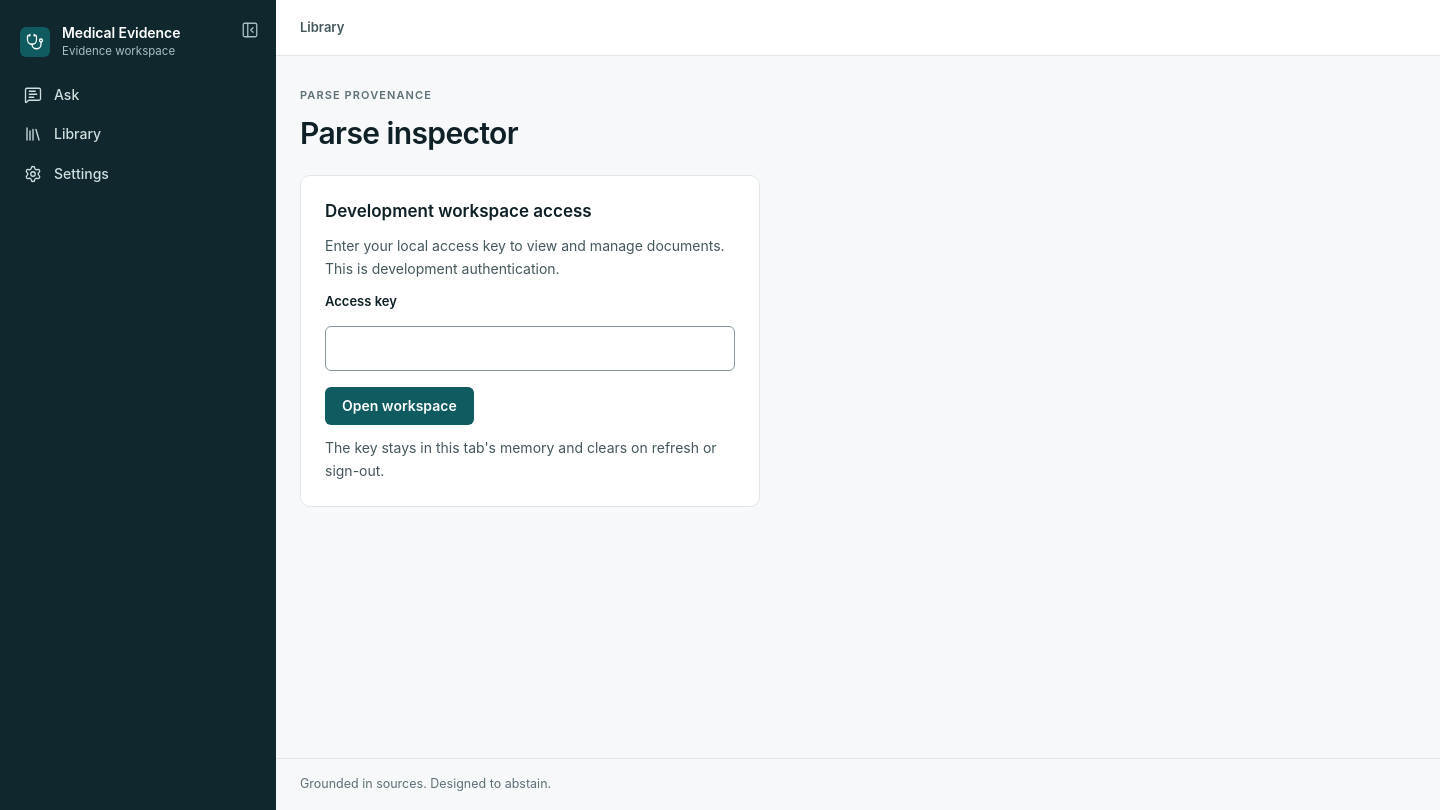
Scenario: M2 parse inspector › lists structured elements with reading order and coordinates
The image size is (1440, 810).
In the password field labelled "Access key": coordinates (530, 349) [325,326,735,371], type "local-test-key"
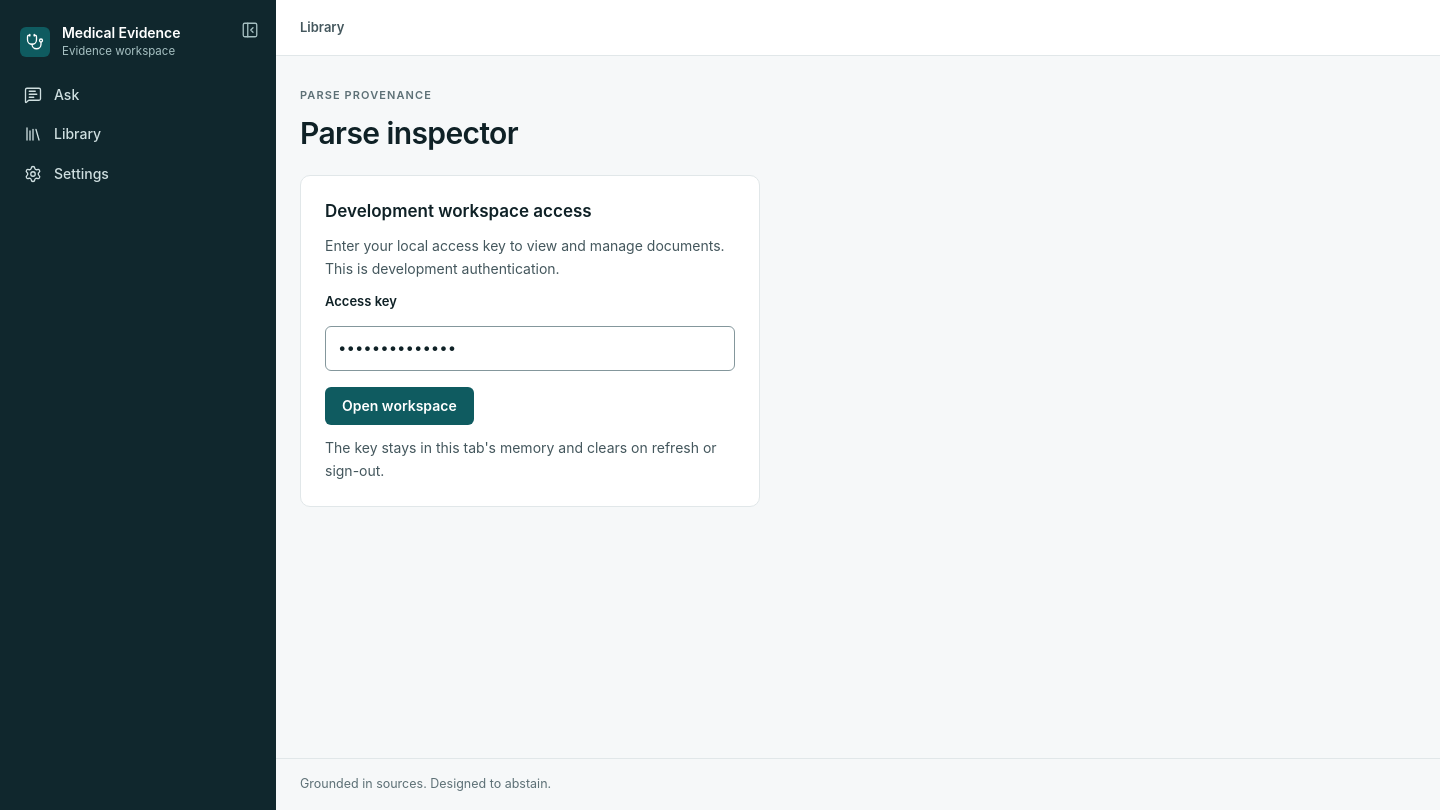
Click the button "Open workspace": coordinates (399, 406) [325,387,474,425]
(page scrolled)
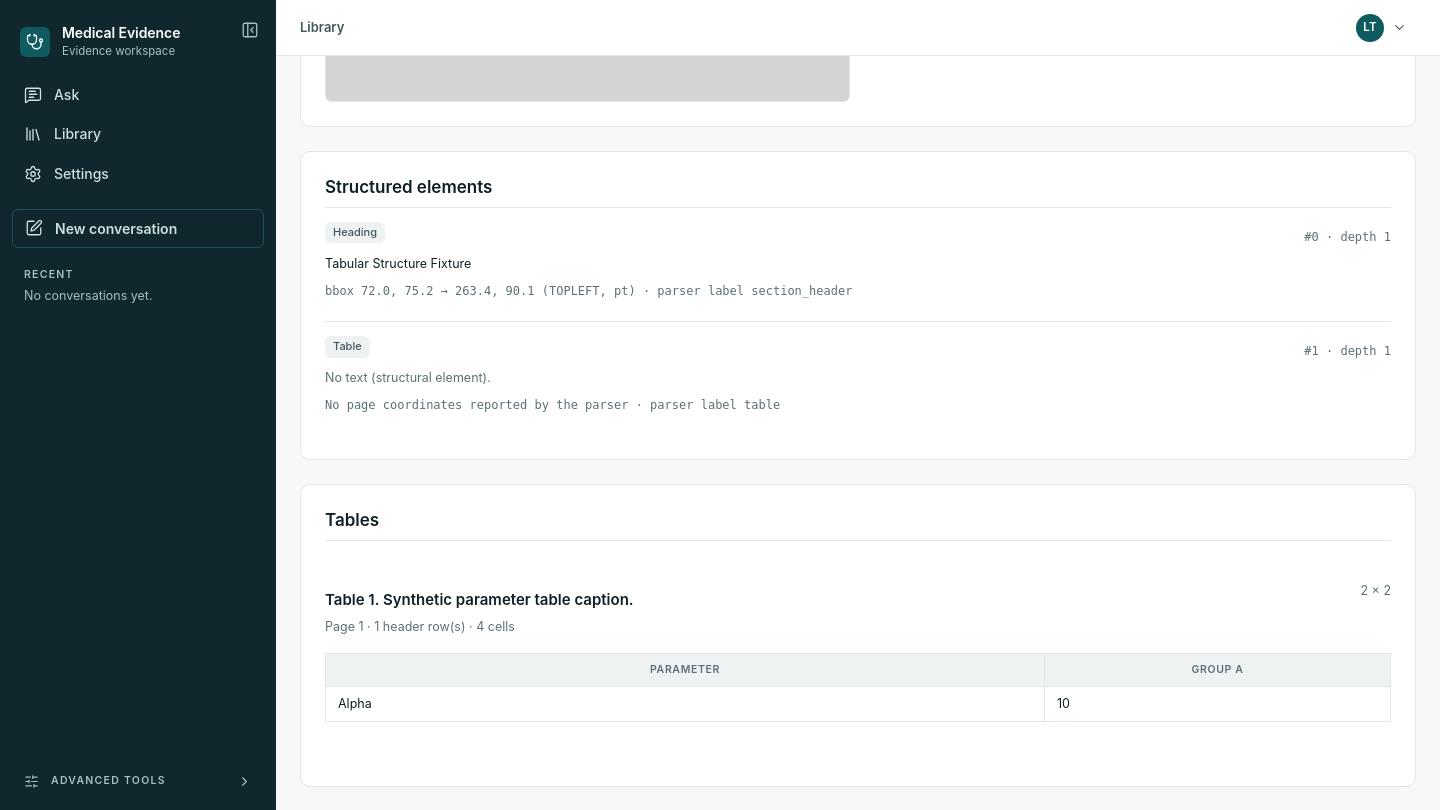
Expected: the button named "Account and workspace" is shown, [1351,8,1416,46]
Expected: the text "Heading" is shown, [325,222,385,244]
Expected: the text "Table" is shown, [325,336,370,358]
